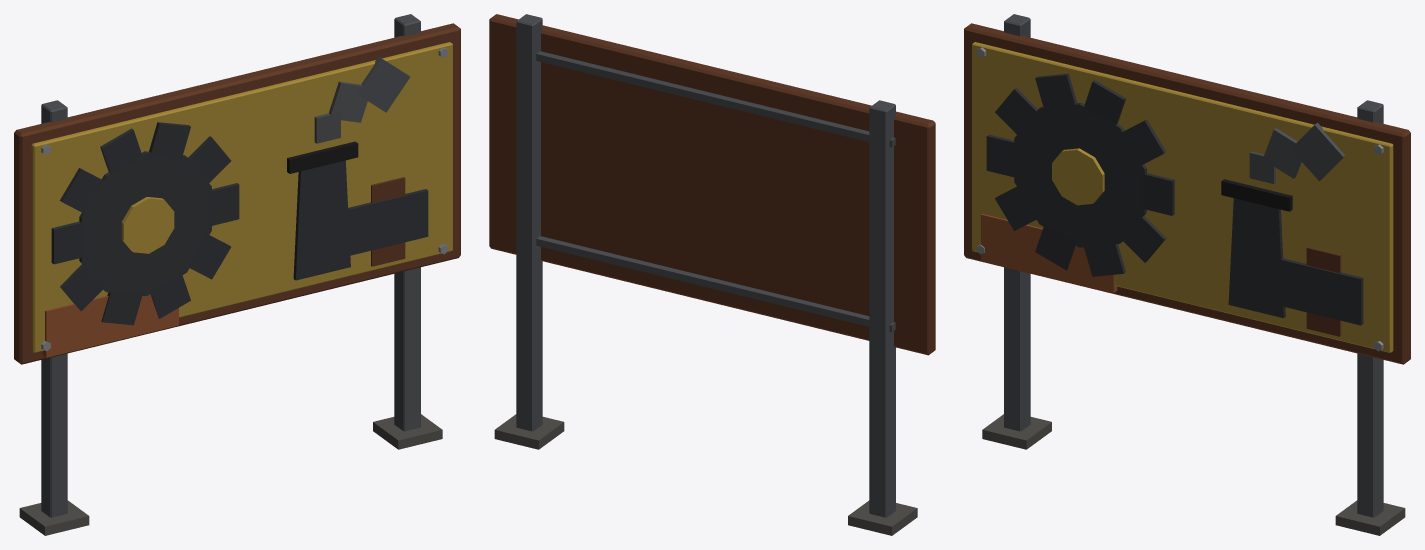
The model's file is lmk_sign_factory.fbx.
3 renders of one model, left to right at view 1: azimuth 30°, elevation 25°; view 2: azimuth 150°, elevation 25°; view 3: azimuth 330°, elevation 25°, orthographic.
Visible parts, largest first — view 1: lmk_sign_factory; view 2: lmk_sign_factory; view 3: lmk_sign_factory.
Boxes of the visible parts, x1,y1,x2,y2 form: lmk_sign_factory: (14, 14, 460, 535); lmk_sign_factory: (489, 14, 935, 535); lmk_sign_factory: (964, 14, 1410, 535).
Size of the model in its own units: 4 by 3.6 by 0.47.
